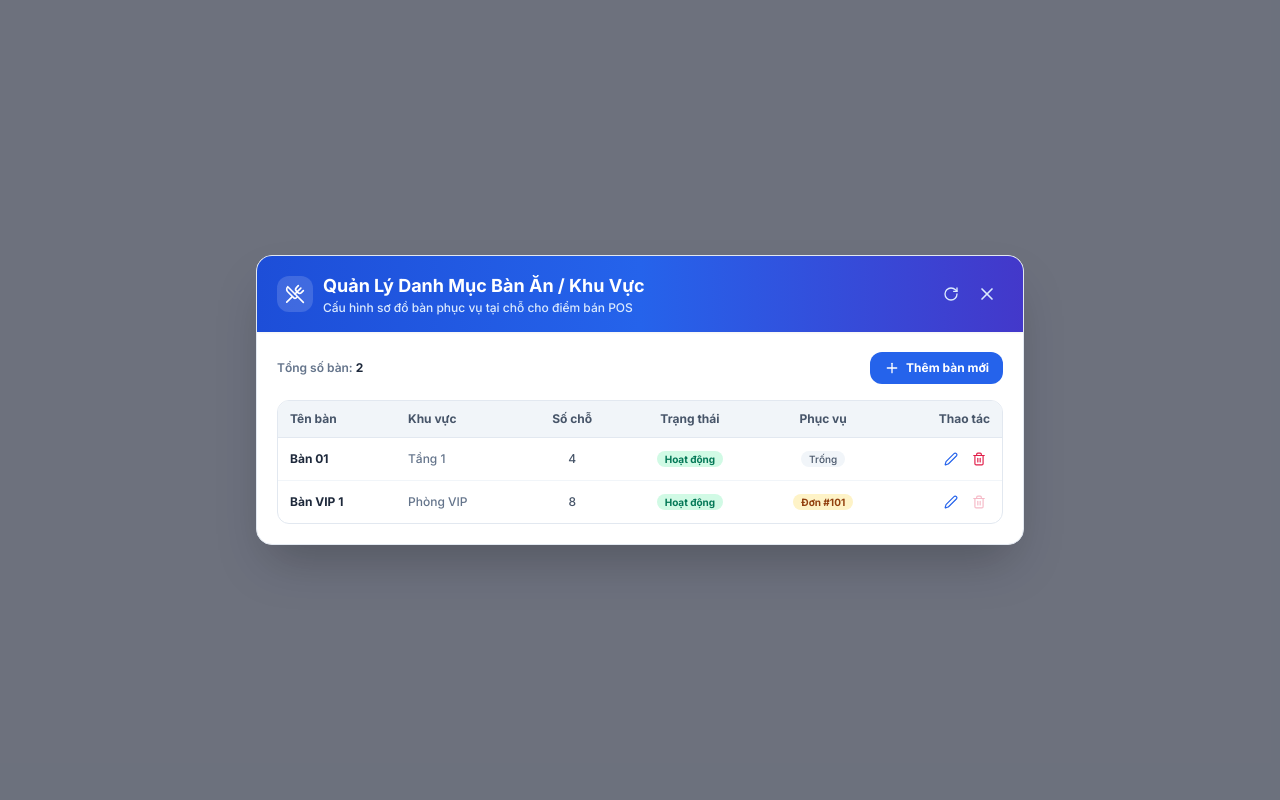
it: NCL-03: Quản lý sơ đồ bàn ăn và phòng (DiningTableManagementModal) › Validate chặn tạo bàn khi để trống tên bàn (Unhappy Path - Validation)
Click the button "Thêm bàn mới". click: (937, 368)
box: [870,352,1003,384]
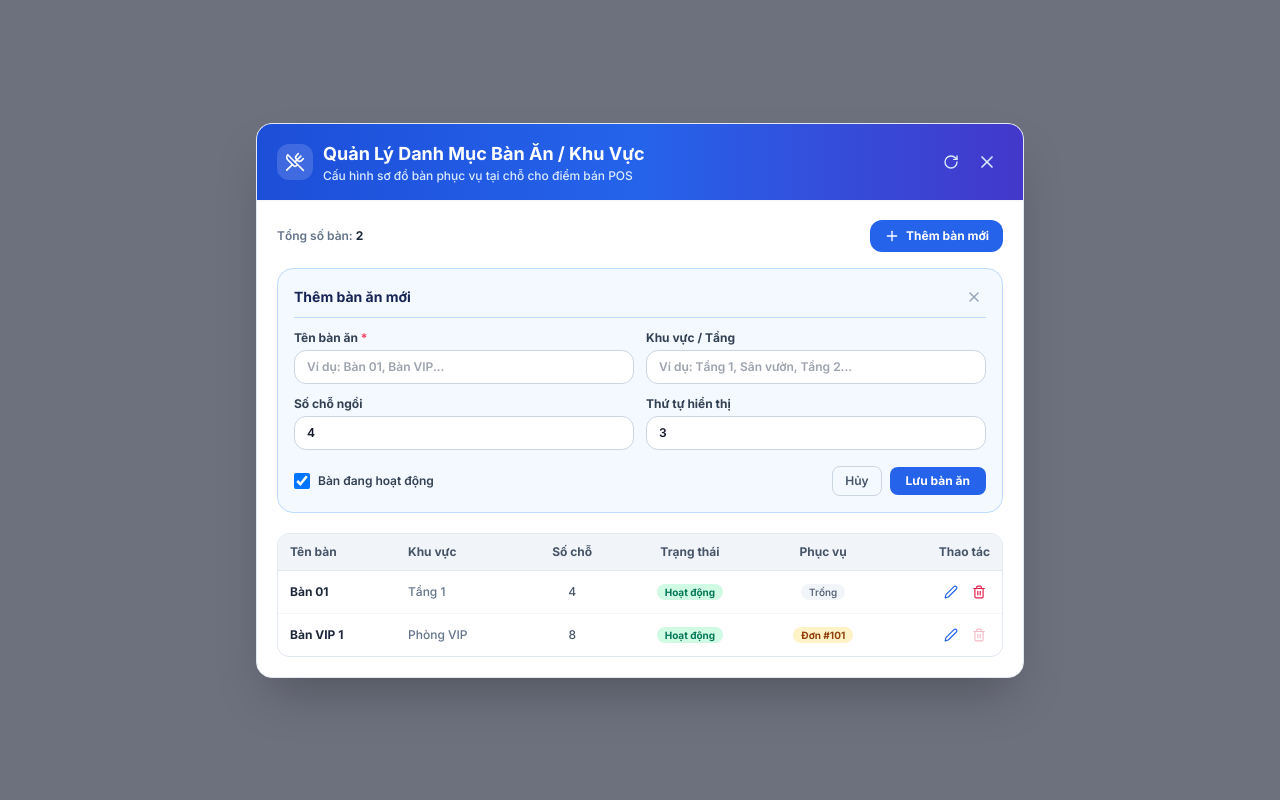
Click the button "Lưu bàn ăn". click: (938, 480)
box: [890,466,986,494]
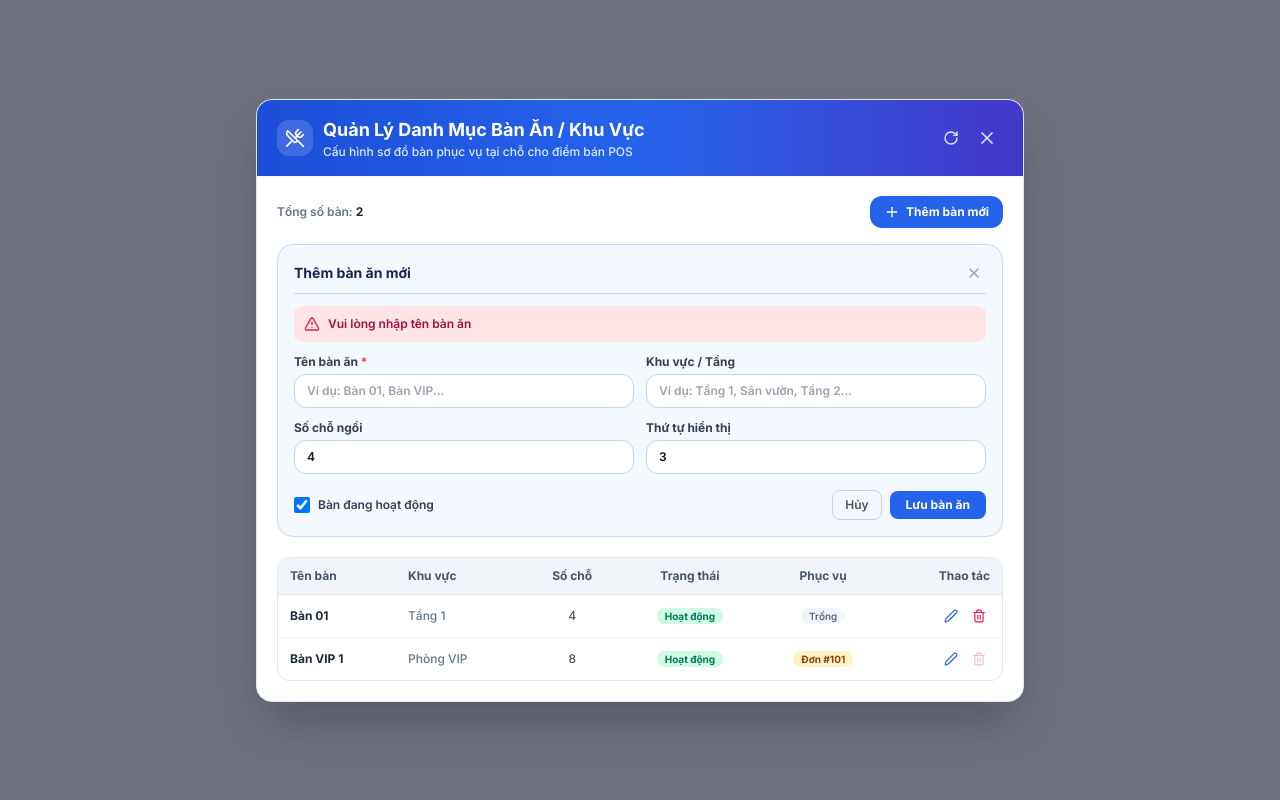
Now the text "Vui lòng nhập tên bàn ăn" is shown, box [328,316,471,332]
